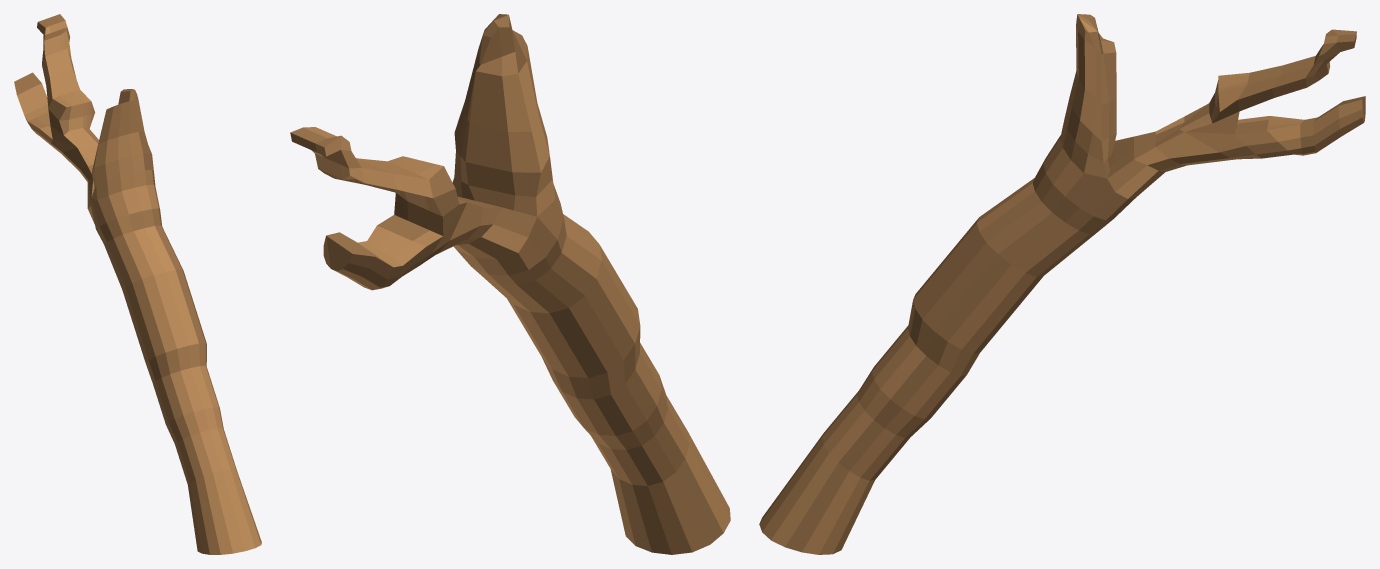
File: item stick.fbx
3 views of the same model, side by side, from view 1: azimuth 30°, elevation 25°; view 2: azimuth 150°, elevation 25°; view 3: azimuth 270°, elevation 25° (orthographic). The views are drawn at different scales.
Parts seen in each view (by area): view 1: Cube; view 2: Cube; view 3: Cube.
Part boxes in pixels (x1,y1,x2,y2): Cube: [14, 14, 261, 554]; Cube: [290, 14, 730, 554]; Cube: [759, 14, 1365, 554].
Size of the model in its own units: 79.68 by 479 by 496.
